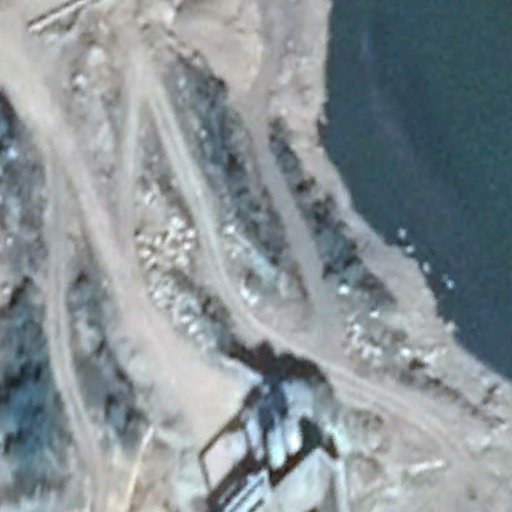msw: (141, 201, 221, 345)
